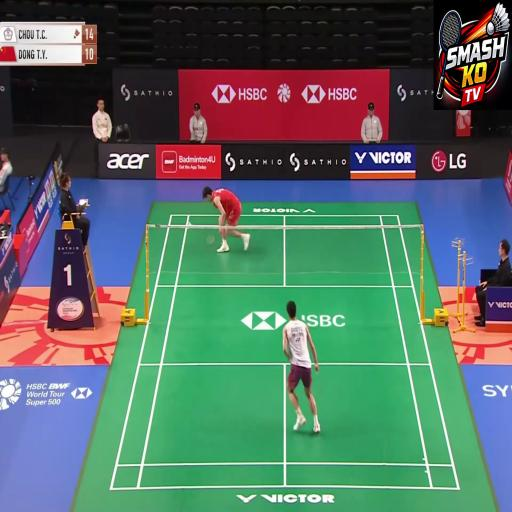player: (270, 295, 334, 455), (190, 167, 256, 273)
